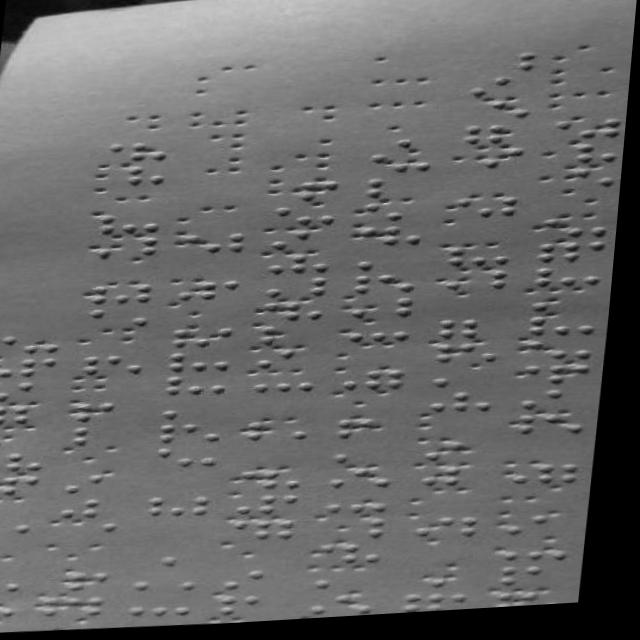braiile: (231, 570, 303, 595), (137, 595, 206, 621), (469, 80, 540, 105), (137, 571, 210, 595), (505, 569, 578, 593), (535, 320, 605, 345), (328, 544, 395, 570), (227, 596, 302, 619), (434, 394, 502, 419), (539, 271, 609, 295), (66, 497, 135, 521), (368, 179, 434, 204), (441, 322, 512, 345), (267, 278, 335, 302), (269, 255, 337, 279), (526, 394, 596, 417), (160, 447, 227, 471), (168, 375, 235, 399), (163, 423, 229, 447), (274, 207, 340, 231), (170, 351, 238, 374), (69, 473, 136, 496), (360, 250, 424, 274), (272, 231, 338, 254), (257, 374, 320, 398), (354, 324, 417, 348), (339, 443, 399, 468), (436, 372, 504, 394), (166, 401, 233, 423), (99, 213, 165, 235), (452, 250, 518, 272), (515, 520, 581, 542), (86, 354, 149, 377), (259, 350, 322, 372), (77, 424, 137, 447), (0, 380, 61, 402), (0, 450, 52, 474), (323, 574, 379, 594)
